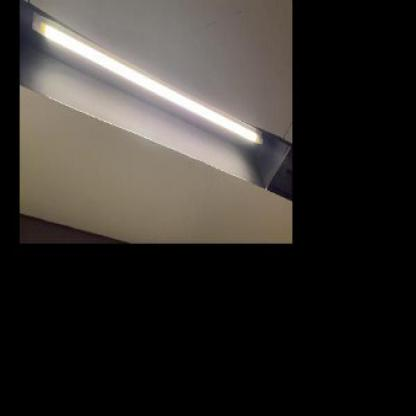light_on: (29, 4, 264, 162)
